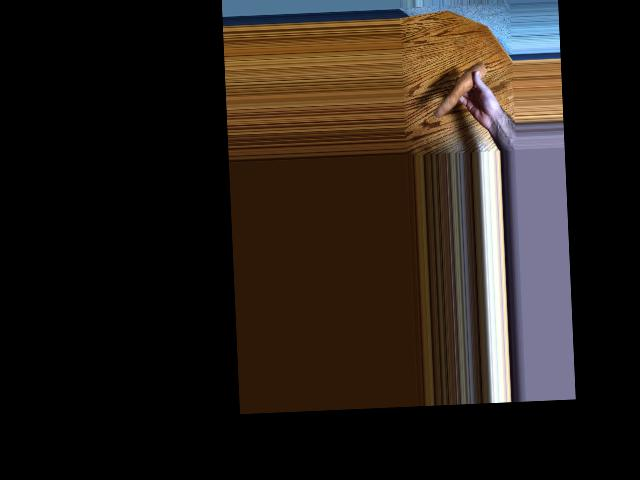sweet_potato: (432, 63, 488, 117)
